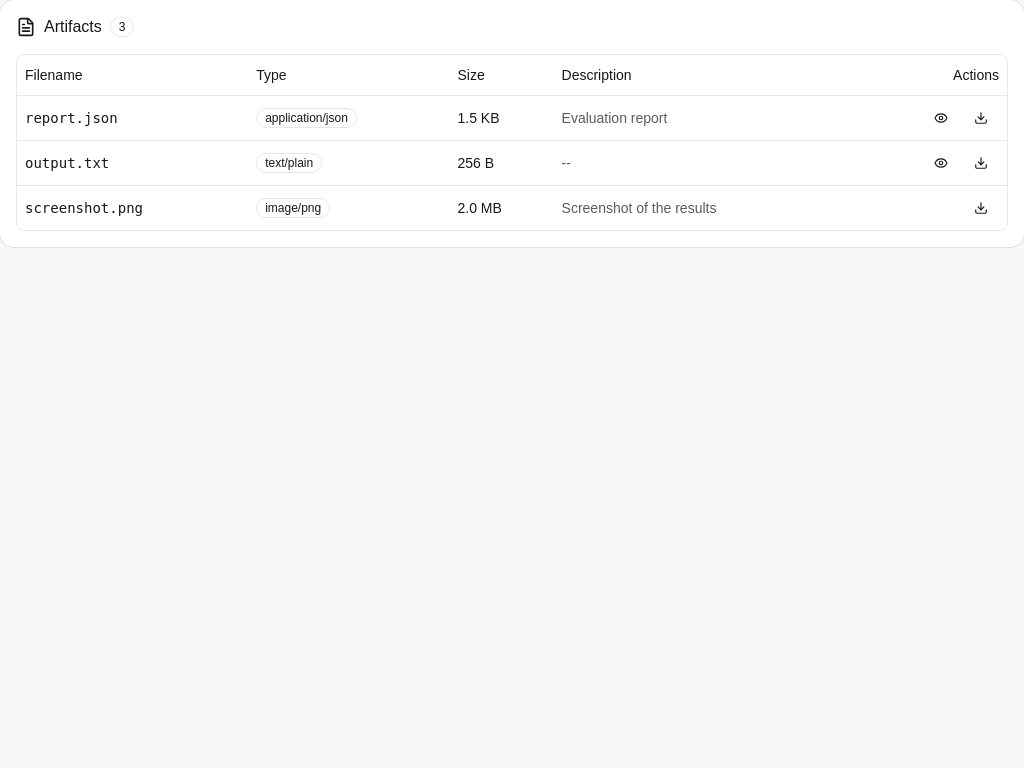
Test case: ArtifactsList › shows non-Error preview failure message
Expected: the text "report.json" is shown, [17,95,248,140]
Click the button titled "Preview" in the row of "report.json".
click(941, 118)  # box [923,104,959,132]
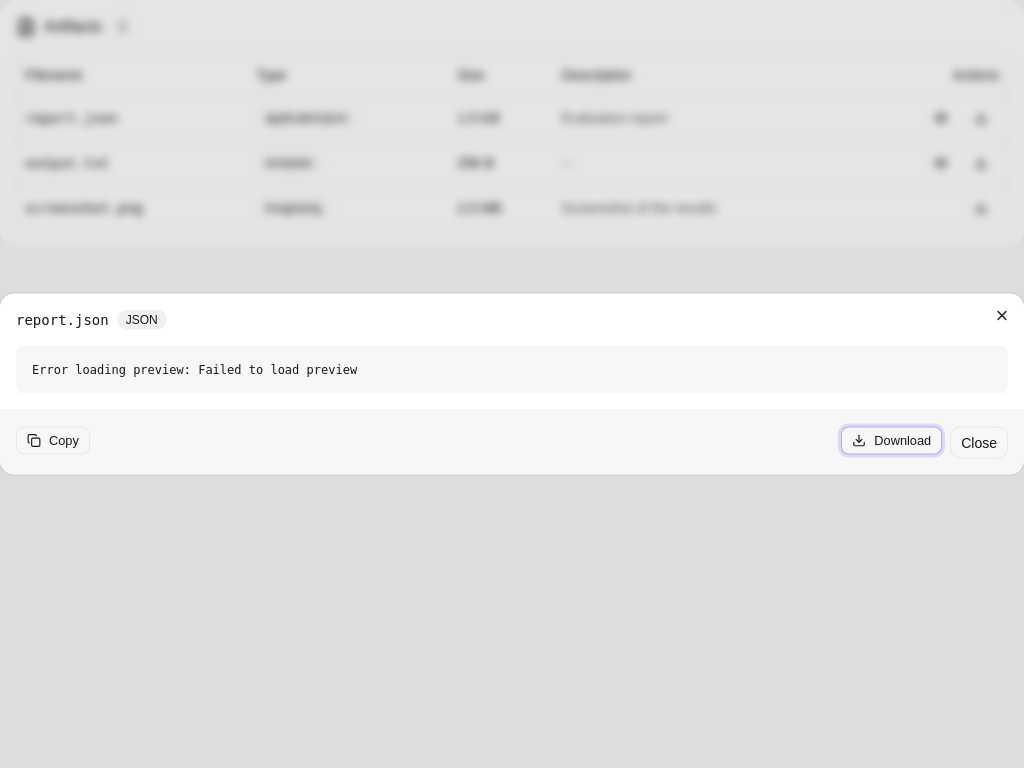
Result: the text "Error loading preview: Failed to load preview" is shown at [16,346,1008,394]
